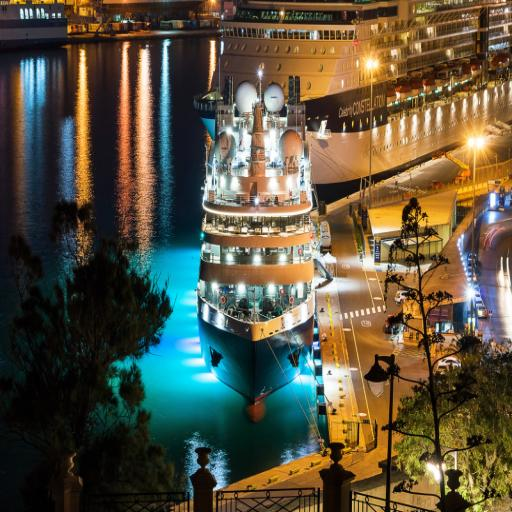cruises: (196, 72, 322, 413)
